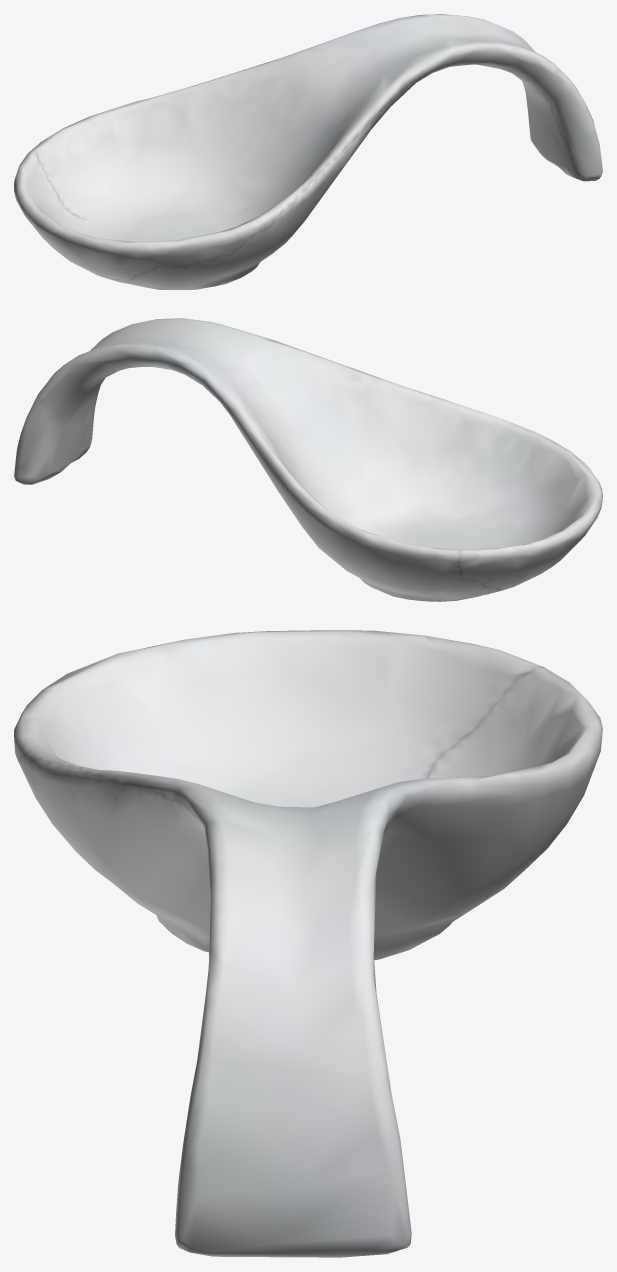
File: Threshold_Porcelain_Spoon_Rest_White-medium.glb
3 views of the same model, one above another, from view 1: azimuth 30°, elevation 25°; view 2: azimuth 150°, elevation 25°; view 3: azimuth 270°, elevation 25° (orthographic). The views are drawn at different scales.
Visible parts, largest first — view 1: Threshold_Porcelain_Spoon_Rest_White; view 2: Threshold_Porcelain_Spoon_Rest_White; view 3: Threshold_Porcelain_Spoon_Rest_White.
Part boxes in pixels (x1,y1,x2,y2): Threshold_Porcelain_Spoon_Rest_White: [14, 14, 602, 289]; Threshold_Porcelain_Spoon_Rest_White: [14, 318, 602, 601]; Threshold_Porcelain_Spoon_Rest_White: [14, 630, 602, 1257].
Size of the model in its own units: 0.2365 by 0.0715 by 0.1174.
Materials: 1 (1 with a texture image).
